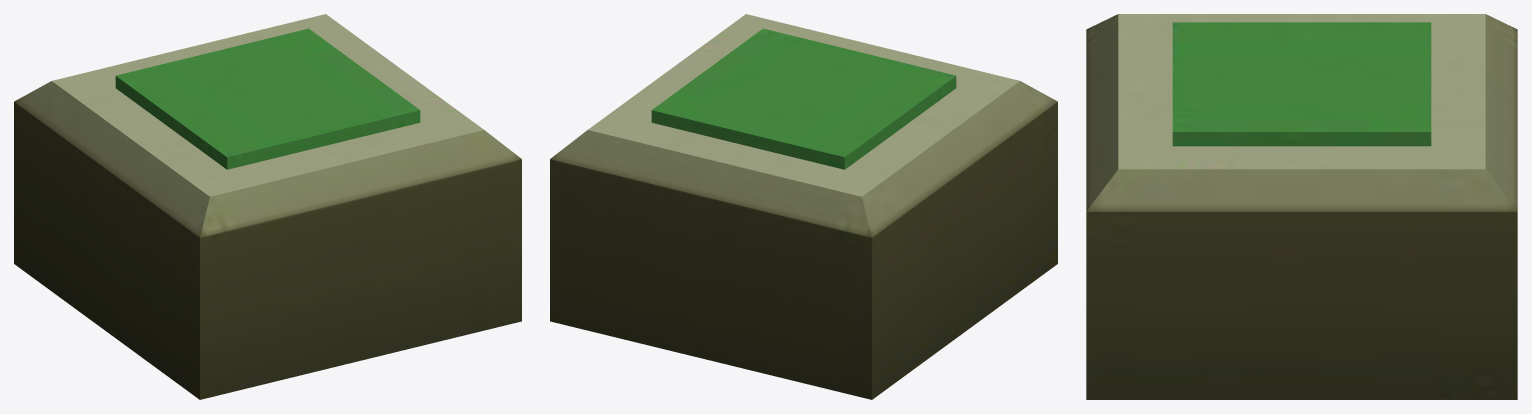
File: nuclear-reactor.glb
3 views of the same model, side by side, from view 1: azimuth 30°, elevation 25°; view 2: azimuth 150°, elevation 25°; view 3: azimuth 270°, elevation 25° (orthographic). The views are drawn at different scales.
Visible parts, largest first — view 1: nuclear-reactor; view 2: nuclear-reactor; view 3: nuclear-reactor.
Boxes of the visible parts, <box> form: nuclear-reactor: <box>14,14,521,399</box>; nuclear-reactor: <box>550,14,1057,399</box>; nuclear-reactor: <box>1086,14,1517,399</box>.
Size of the model in its own units: 0.27 by 0.16 by 0.27.
Materials: 1 (1 with a texture image).
